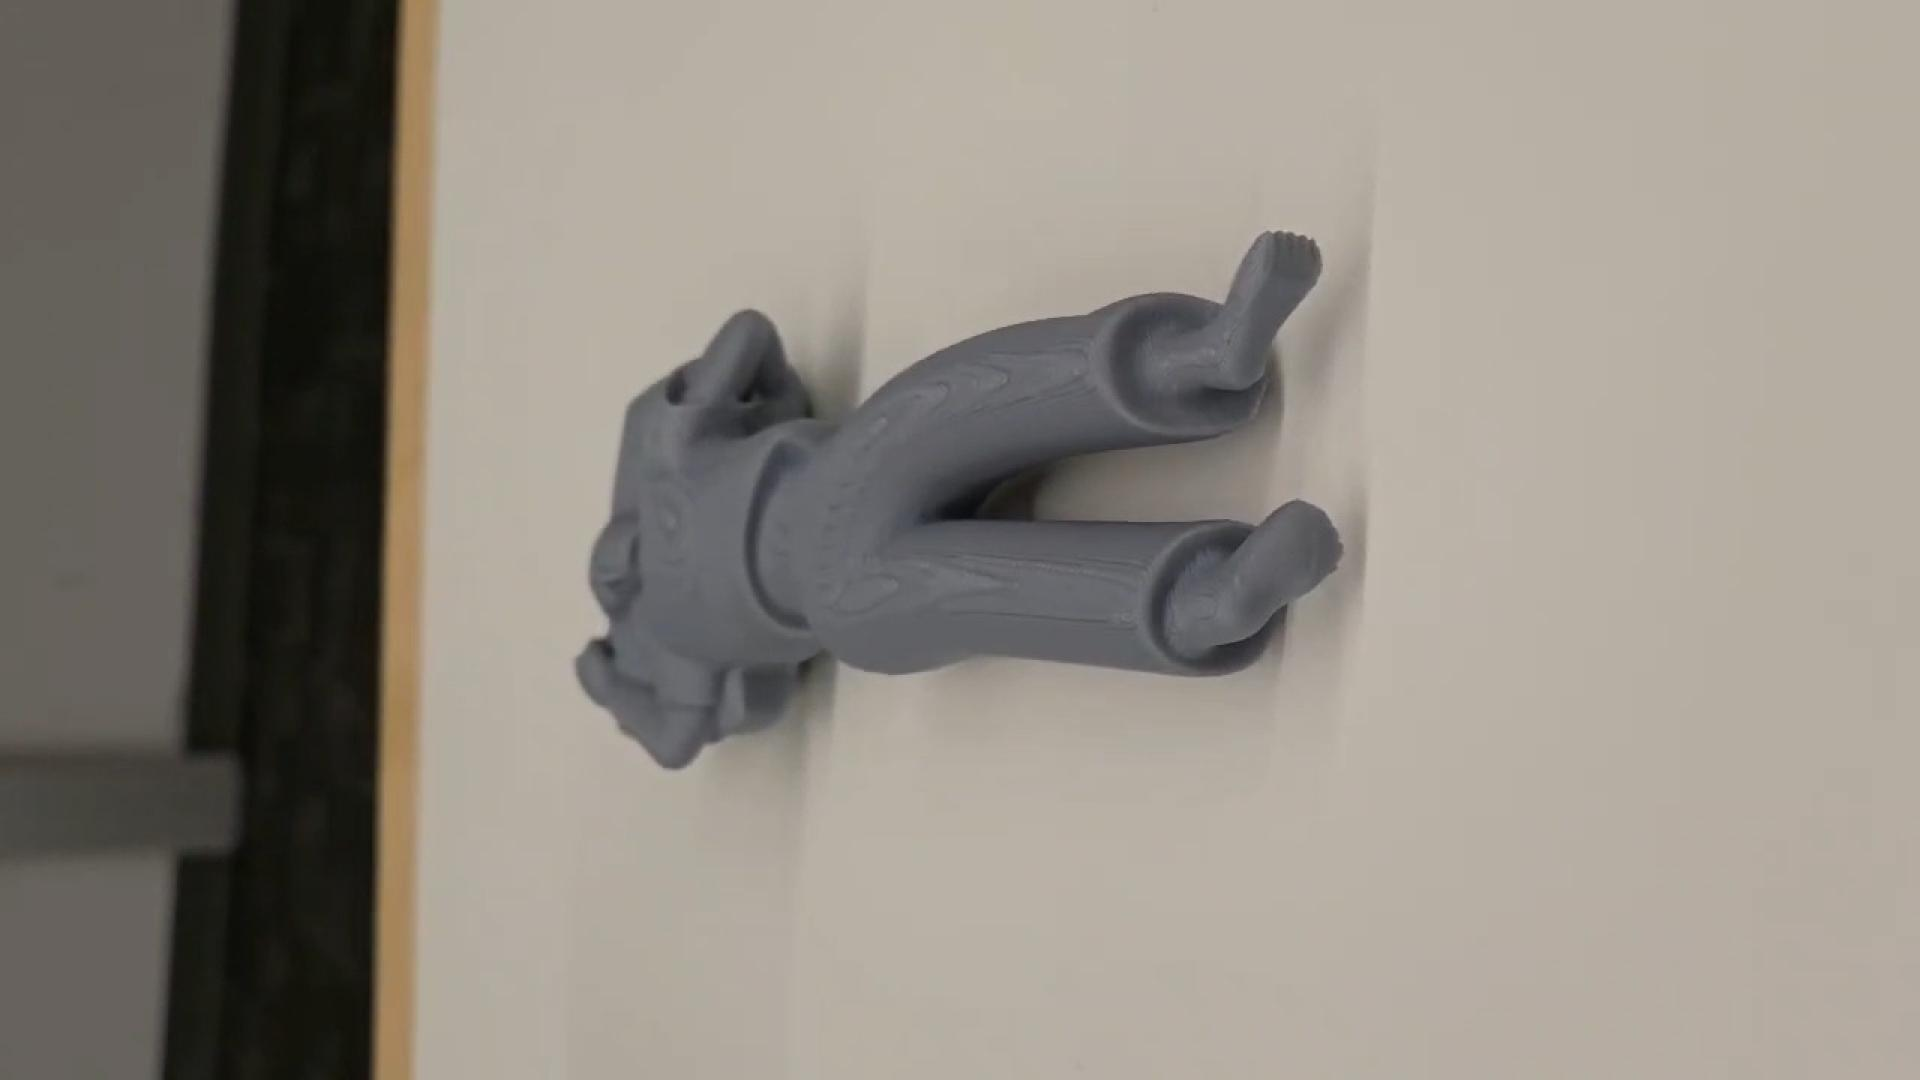Bad-style: (568, 227, 1350, 775)
